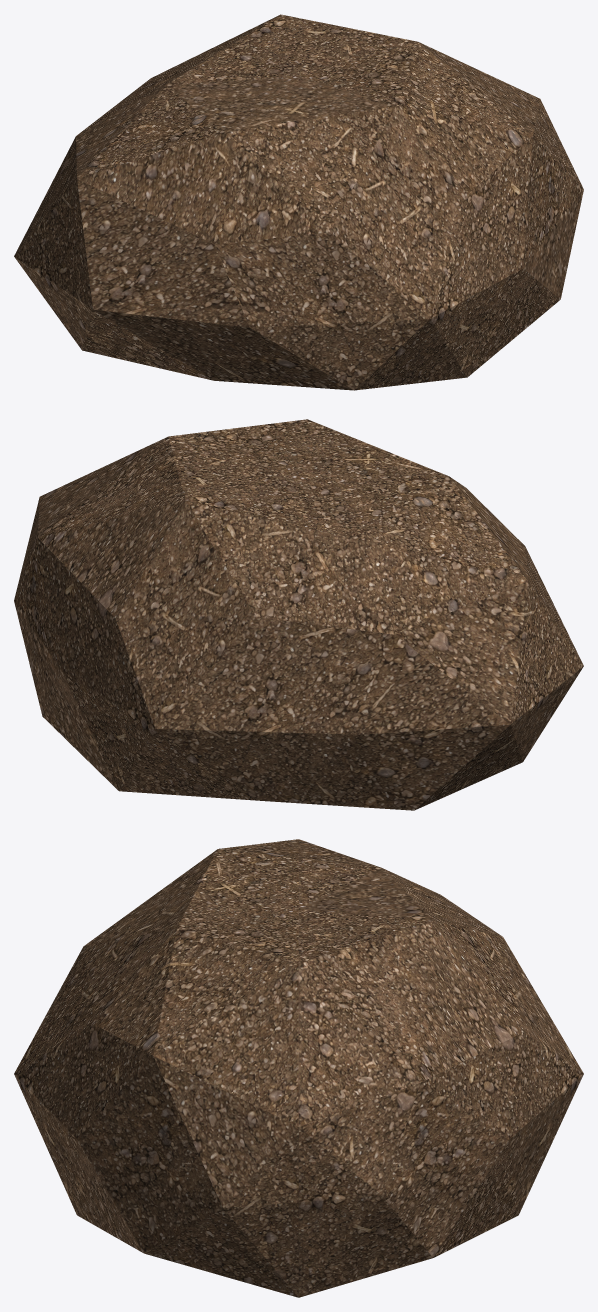
The model's file is Rock_03.glb.
3 renders of one model, top to bottom at view 1: azimuth 30°, elevation 25°; view 2: azimuth 150°, elevation 25°; view 3: azimuth 270°, elevation 25°, orthographic. The views are drawn at different scales.
Parts seen in each view (by area): view 1: HW_Rock_03_Export; view 2: HW_Rock_03_Export; view 3: HW_Rock_03_Export.
Part boxes in pixels (x1=…): HW_Rock_03_Export: x1=14, y1=14, x2=583, y2=390; HW_Rock_03_Export: x1=14, y1=419, x2=583, y2=810; HW_Rock_03_Export: x1=14, y1=839, x2=583, y2=1297.
Size of the model in its own units: 1.48 by 0.7198 by 1.32.
1 material, 1 textured.
